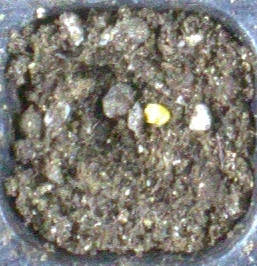pepper seed: (58, 38, 230, 166)
